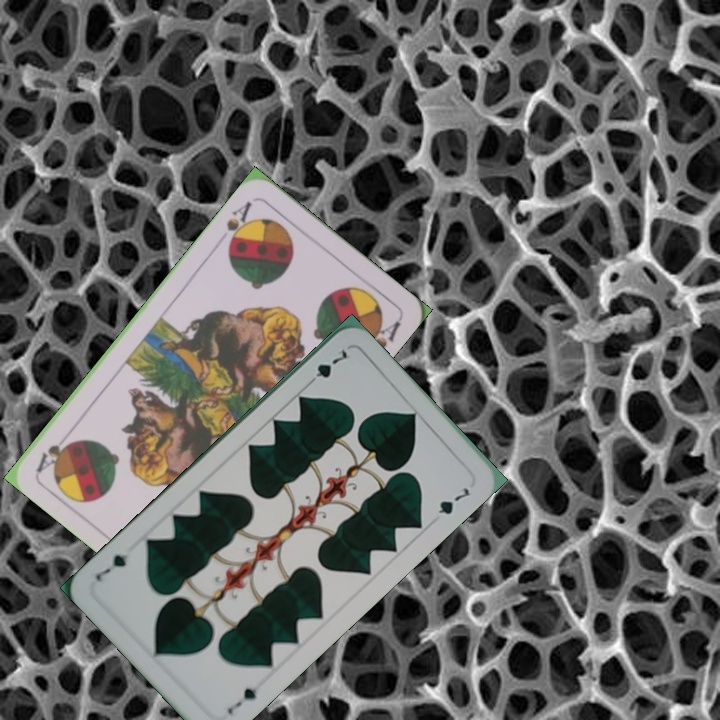G7: (302, 346, 353, 390), (223, 684, 260, 718)
SA: (222, 197, 255, 252)
